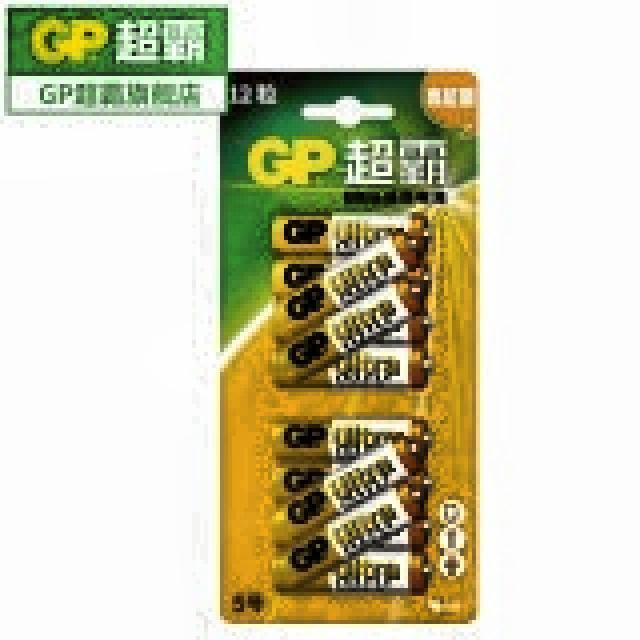battery: (271, 208, 429, 386), (271, 419, 429, 593)
